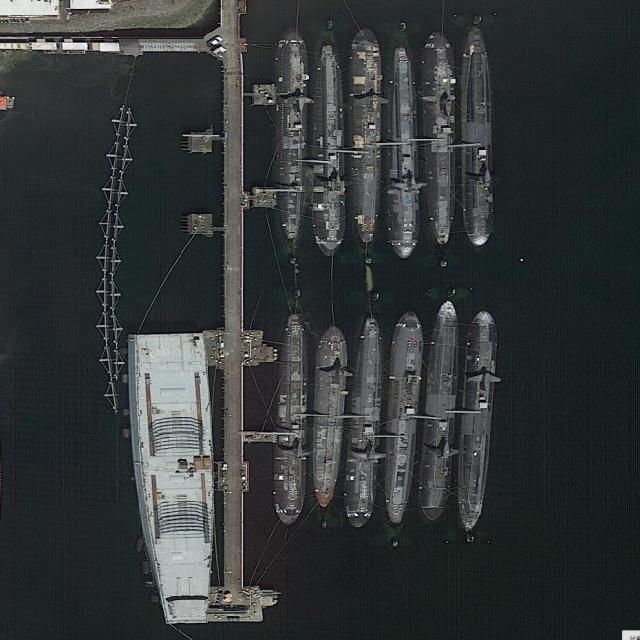Dock: (224, 5, 245, 589)
Submarine: (379, 311, 425, 526), (419, 298, 463, 521), (454, 308, 498, 531), (343, 316, 388, 531), (274, 310, 310, 525), (310, 323, 347, 509), (423, 32, 454, 246), (462, 31, 493, 244), (275, 28, 306, 240), (312, 43, 343, 255), (350, 30, 381, 242), (389, 47, 420, 259)
